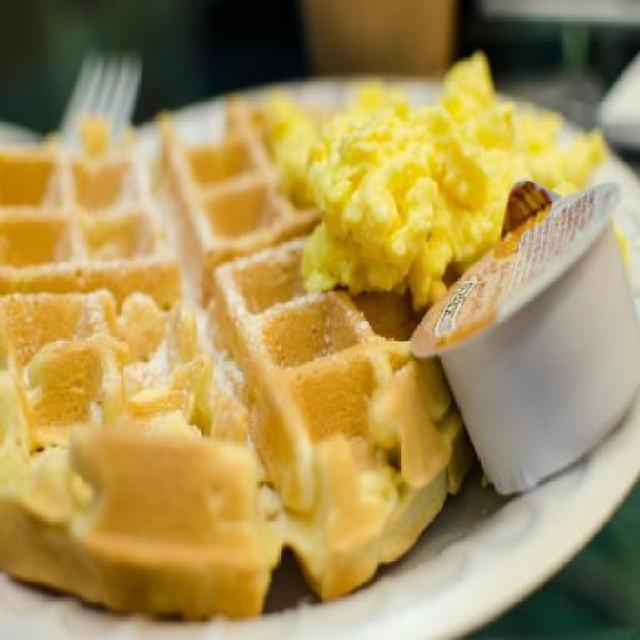Waffle: (0, 96, 474, 622)
